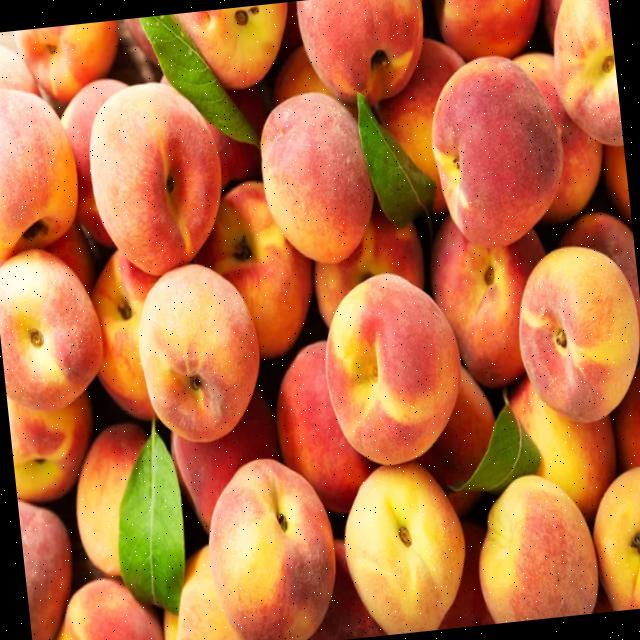peach: (324, 274, 459, 464), (89, 85, 220, 276), (431, 57, 562, 246), (208, 460, 335, 640), (138, 265, 259, 441), (518, 247, 638, 422), (194, 181, 311, 357), (344, 463, 464, 633), (430, 215, 544, 386), (260, 93, 372, 263), (478, 475, 597, 622), (276, 340, 376, 512), (0, 250, 102, 409), (297, 0, 422, 105), (0, 89, 76, 258), (91, 251, 156, 418), (553, 0, 622, 144), (593, 467, 640, 610), (57, 578, 163, 640)
